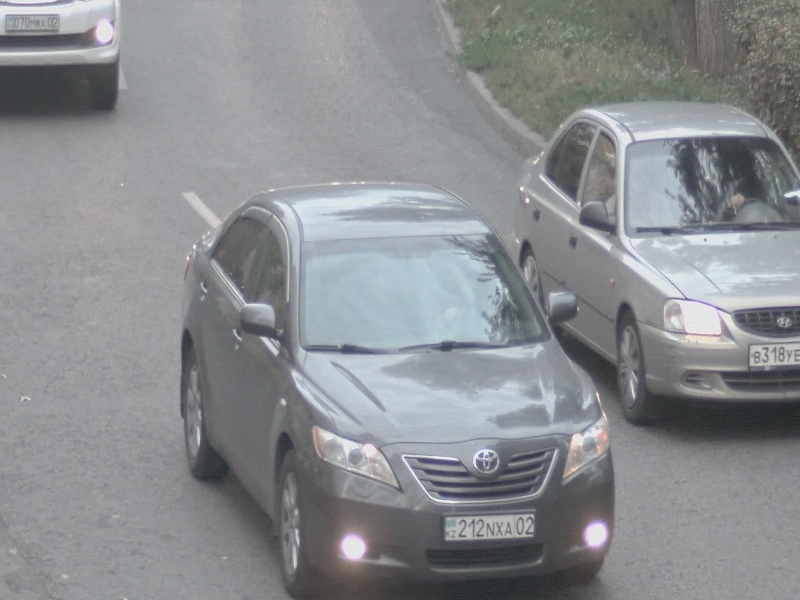plate: (442, 511, 536, 542), (3, 13, 63, 32)
